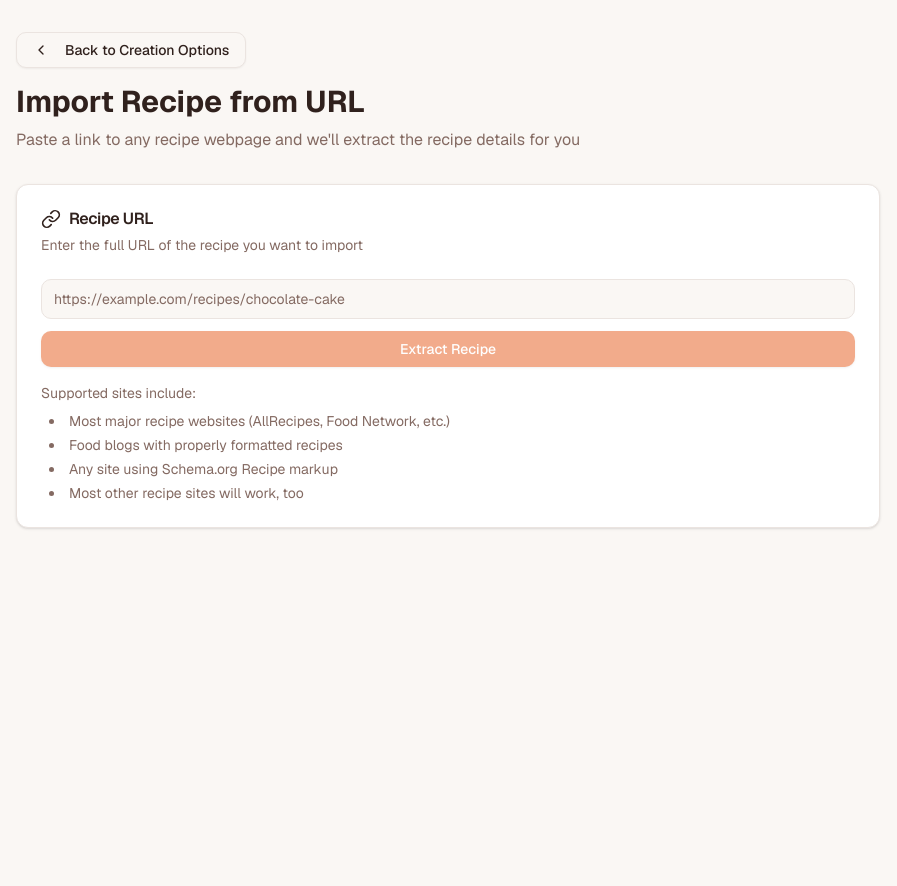
Test case: UrlRecipePage › extracts recipe successfully
Enter URL and extract
Type "https://example.com/recipe" into the field with placeholder "https://example.com/recipes/chocolate-cake" at (448, 299), box [41,279,855,319]
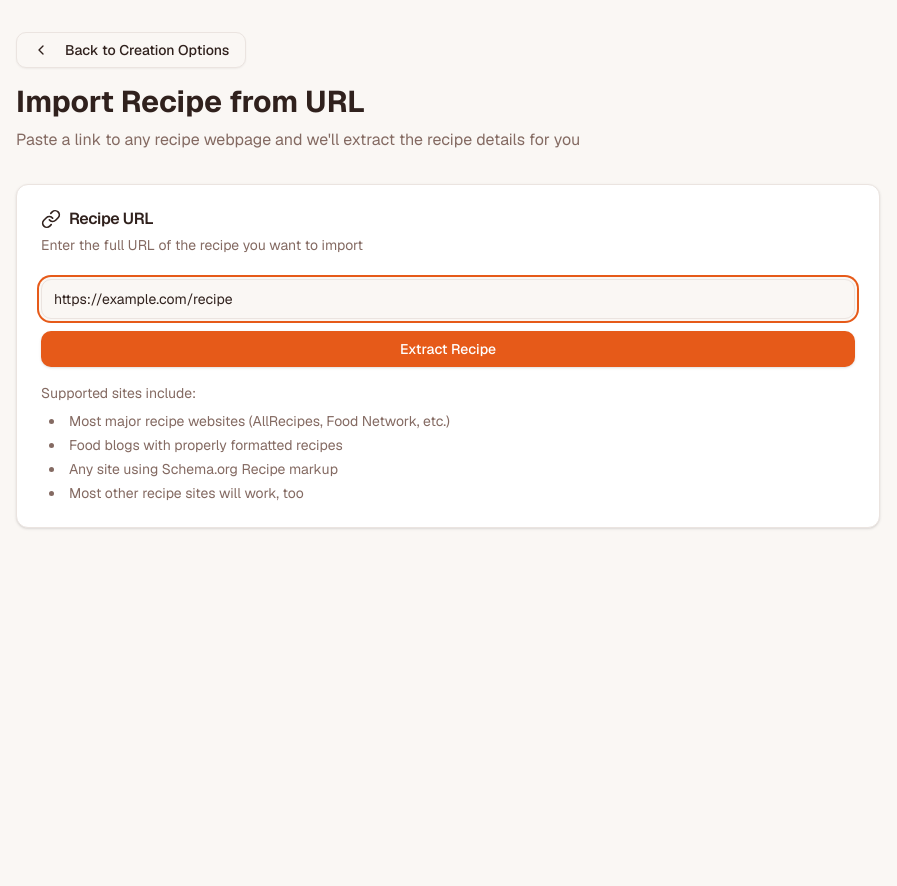
Click the button "Extract Recipe" at (448, 349), box [41,331,855,367]
(page scrolled)
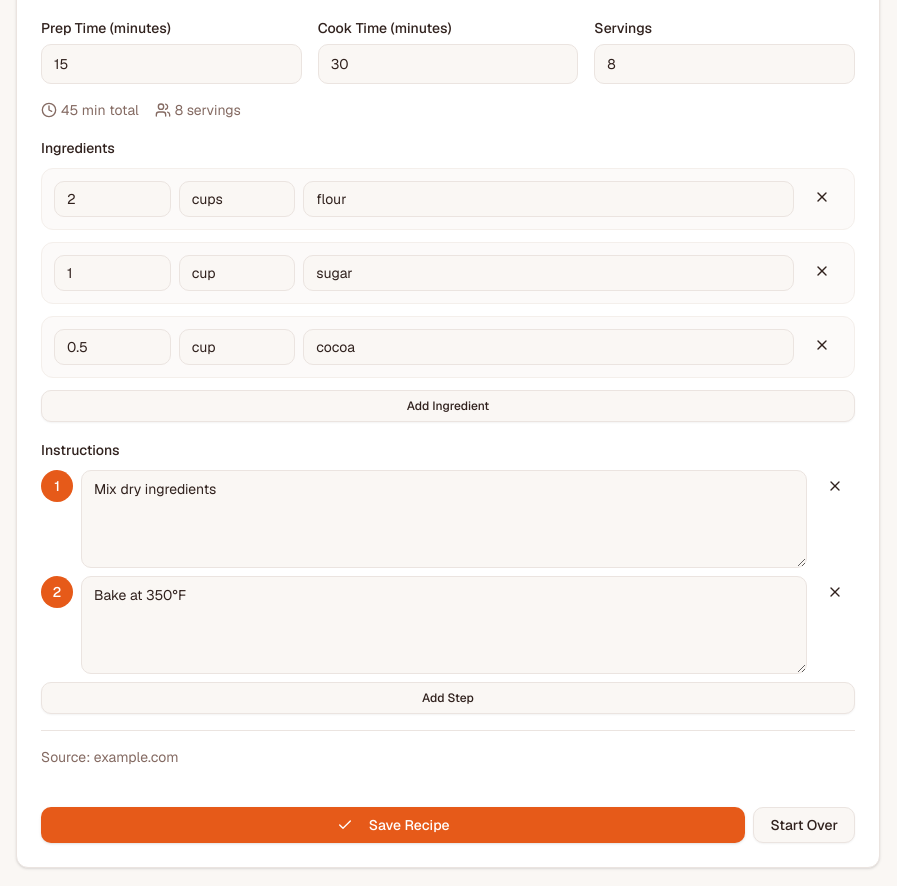
Now the number field showing "15" is shown, box [41,44,302,84]
Now the number field showing "30" is shown, box [318,44,578,84]
Now the number field showing "8" is shown, box [594,44,855,84]
